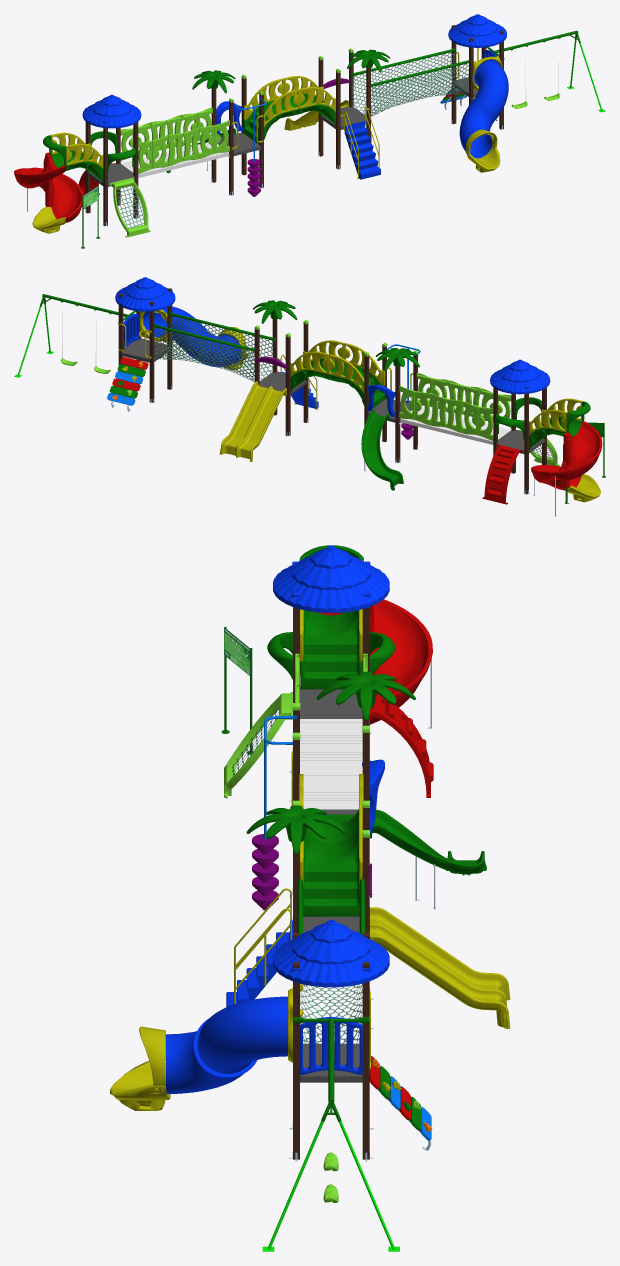
The picture shows the model from 3 angles, top to bottom: view 1: azimuth 30°, elevation 25°; view 2: azimuth 150°, elevation 25°; view 3: azimuth 270°, elevation 25°; orthographic projection. The views are drawn at different scales.
Visible parts, largest first — view 1: object 8, object 11, object 19, object 5, object 38, TOLDO M2.001, TOLDO M2, object 41, LATERAL M1.002, LATERAL M1.005, LATERAL M1, LATERAL M1.003 (+20 smaller); view 2: object 8, object 11, object 5, object 19, object 38, TOLDO M2.001, TOLDO M2, object 41, PLATAFORMA M1.002, RAMPA DE AGARRA, PRANCHA, LATERAL M1 (+21 smaller); view 3: object 8, object 11, object 5, TOLDO M2.001, TOLDO M2, object 41, object 38, COQUEIRO M1, COQUEIRO M1.001, object 19, PLATAFORMA M1.006, COLUNA MAD PLAST 9 X 9CM.011 (+3 smaller).
Part boxes in pixels (<box>): object 8: <box>27,30,580,233</box>; object 11: <box>216,48,508,179</box>; object 19: <box>117,52,468,228</box>; object 5: <box>14,152,113,222</box>; object 38: <box>109,115,199,237</box>; TOLDO M2.001: <box>82,94,141,128</box>; TOLDO M2: <box>448,14,506,47</box>; object 41: <box>121,142,229,177</box>; LATERAL M1.002: <box>258,89,299,130</box>; LATERAL M1.005: <box>65,143,103,168</box>; LATERAL M1: <box>243,78,284,119</box>; LATERAL M1.003: <box>298,87,335,111</box>; object 8: <box>39,294,603,516</box>; object 11: <box>119,306,413,417</box>; object 5: <box>482,421,602,504</box>; object 19: <box>154,316,552,459</box>; object 38: <box>430,380,559,466</box>; TOLDO M2.001: <box>490,359,550,394</box>; TOLDO M2: <box>115,277,175,311</box>; object 41: <box>400,408,510,444</box>; PLATAFORMA M1.002: <box>121,338,170,362</box>; RAMPA DE AGARRA: <box>107,357,145,411</box>; PRANCHA: <box>109,357,148,398</box>; LATERAL M1: <box>328,354,369,392</box>; object 8: <box>109,545,510,1121</box>; object 11: <box>166,748,384,1094</box>; object 5: <box>318,599,433,797</box>; TOLDO M2.001: <box>273,545,389,612</box>; TOLDO M2: <box>273,920,389,987</box>; object 41: <box>300,719,362,809</box>; object 38: <box>224,683,299,798</box>; COQUEIRO M1: <box>246,805,345,854</box>; COQUEIRO M1.001: <box>316,671,415,720</box>; object 19: <box>232,708,362,1044</box>; PLATAFORMA M1.006: <box>300,687,362,718</box>; COLUNA MAD PLAST 9 X 9CM.011: <box>362,962,369,1159</box>.
Bounding box in the file's own units: 16.91 × 3.46 × 5.22.
Materials: 25 (3 with a texture image).
